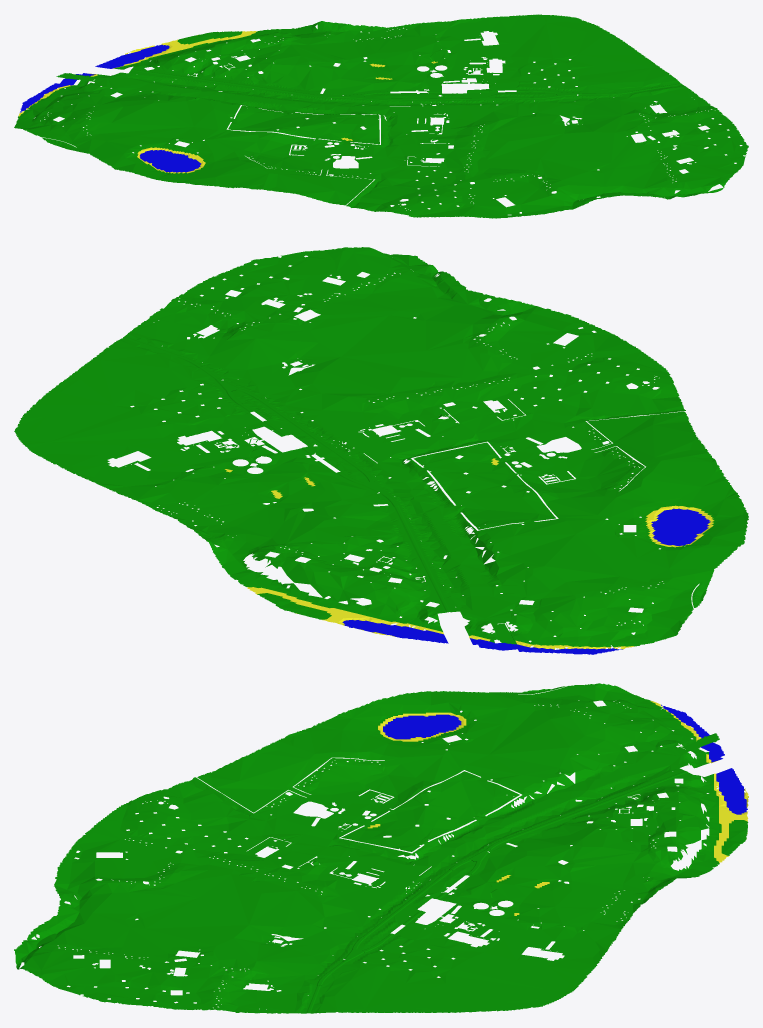
File: Infantry.obj
3 views of the same model, one above another, from view 1: azimuth 30°, elevation 25°; view 2: azimuth 150°, elevation 25°; view 3: azimuth 270°, elevation 25° (orthographic). The views are drawn at different scales.
Visible parts, largest first — view 1: ground, deepwater, water; view 2: ground, deepwater, water; view 3: ground, deepwater, water.
Boxes of the visible parts, x1,y1,x2,y2 form: ground: (14,14,748,218); deepwater: (20,44,201,172); water: (18,31,437,173); ground: (14,247,748,647); deepwater: (342,508,710,654); water: (225,458,714,649); ground: (14,683,748,1013); deepwater: (383,704,747,814); water: (367,701,748,915).
Bounding box in the file's own units: 619 × 26.85 × 582.
